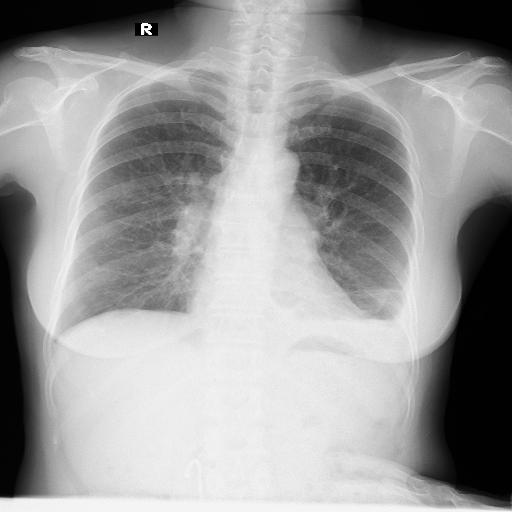Pleural effusion: (361, 267, 399, 320)
Pleural thickening: (361, 267, 399, 320)
Pulmonary fibrosis: (272, 278, 362, 294), (91, 199, 135, 223), (102, 221, 132, 237)
